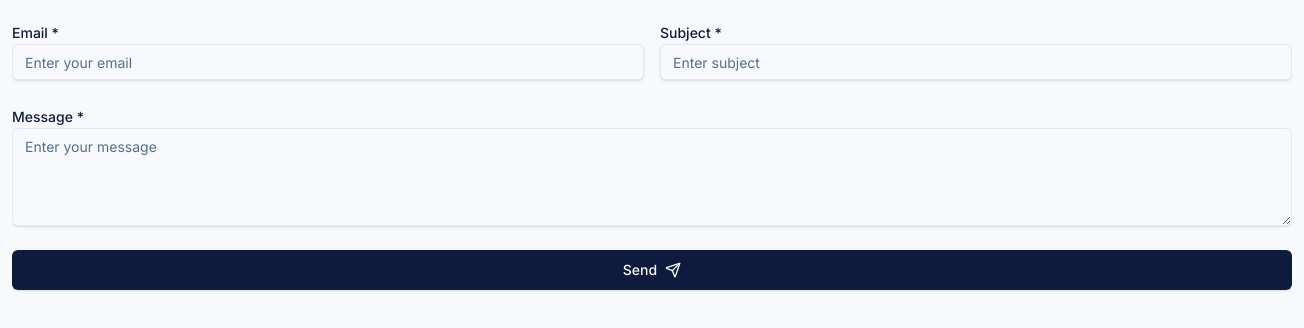
Test: ContactForm.tsx - ContactForm Component › Error Display Tests › TC20: Should style error message correctly
The width and height of the screenshot is (1304, 328).
In the field with placeholder "Enter your email": x=328, y=62 x1=12 y1=44 x2=644 y2=80, type "test@example.com"
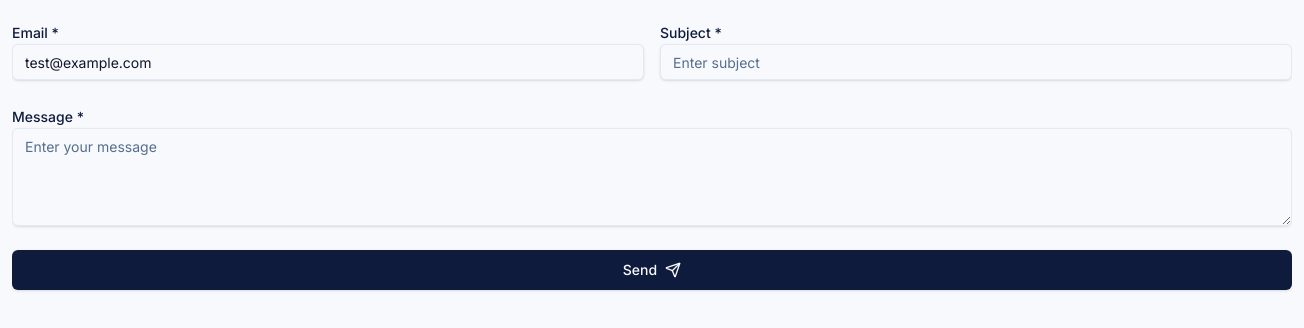
In the text box with placeholder "Enter your message": x=652, y=177 x1=12 y1=128 x2=1292 y2=226, type "Test message"
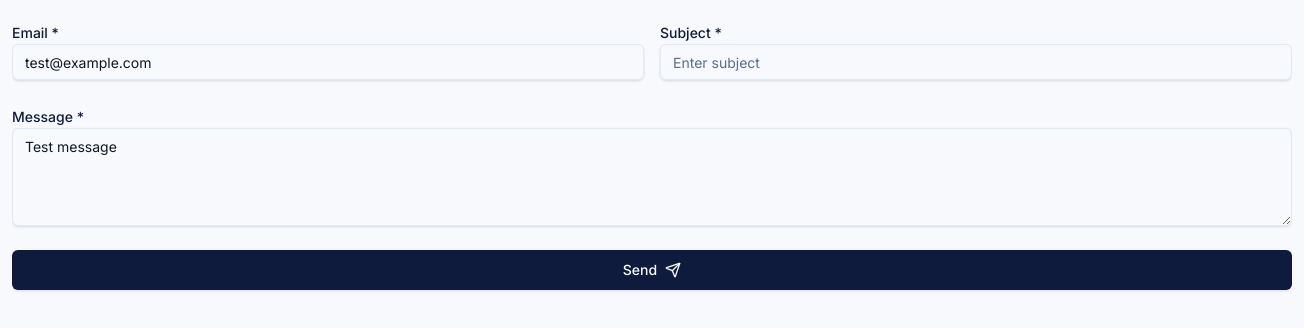
Submit the form
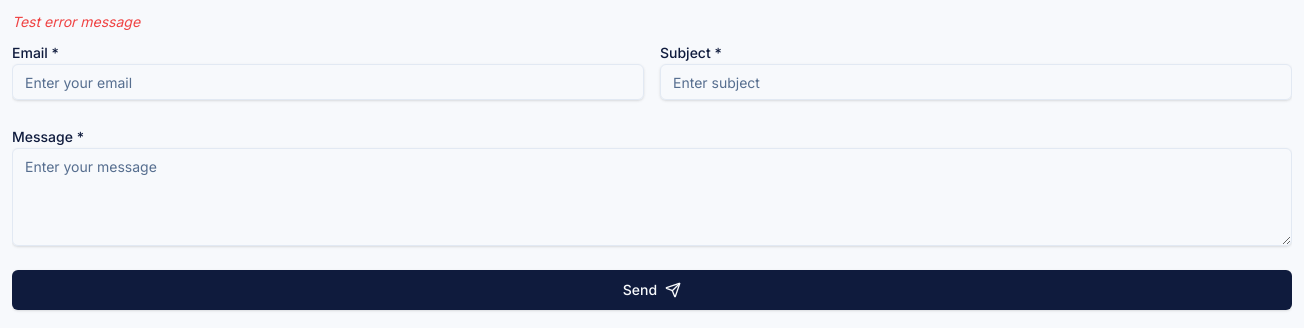
Result: the text "Test error message" is shown at x1=12 y1=13 x2=140 y2=30
